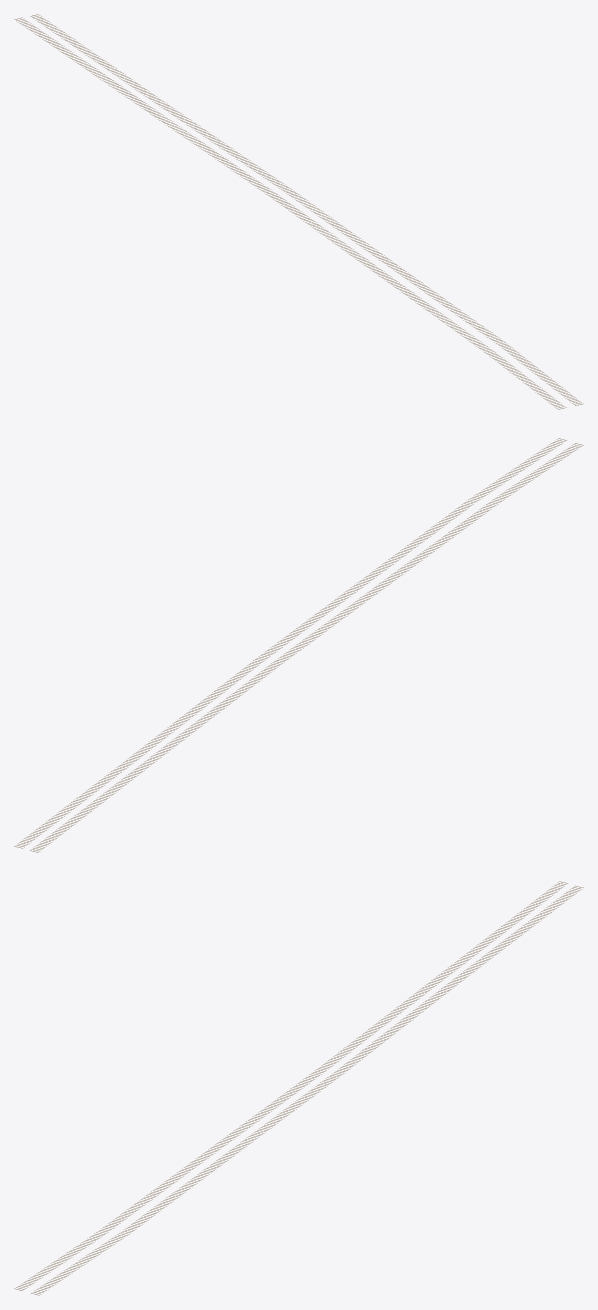
Rendered from c_1629_17843_rail_sleeper.glb.
3 views of the same model, one above another, from view 1: azimuth 30°, elevation 25°; view 2: azimuth 150°, elevation 25°; view 3: azimuth 330°, elevation 25° (orthographic). The views are drawn at different scales.
Parts seen in each view (by area): view 1: geometry_0; view 2: geometry_0; view 3: geometry_0.
Part boxes in pixels (x1,y1,x2,y2): geometry_0: (14,14,583,409); geometry_0: (14,438,583,852); geometry_0: (14,881,583,1295).
Size of the model in its own units: 10.53 by 0.0701 by 256.
